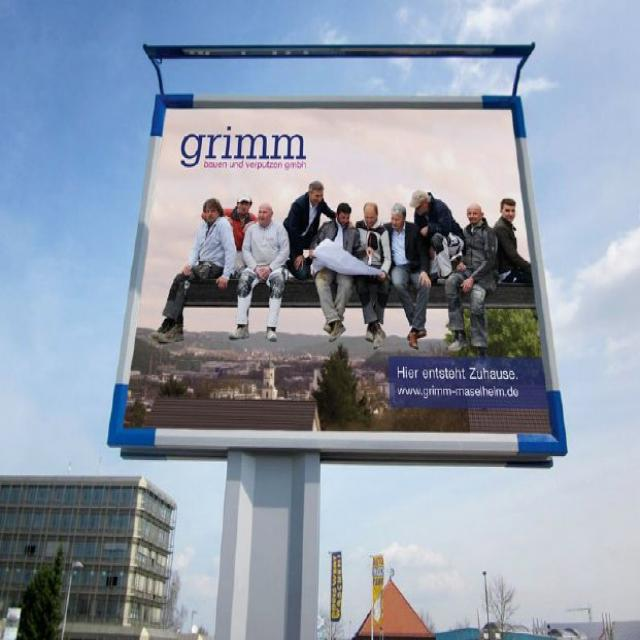Werbetafel frei: (107, 93, 569, 464)
